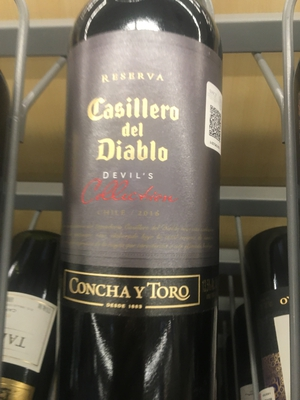casillero del diablo devils collection rojo: (62, 9, 225, 400)
